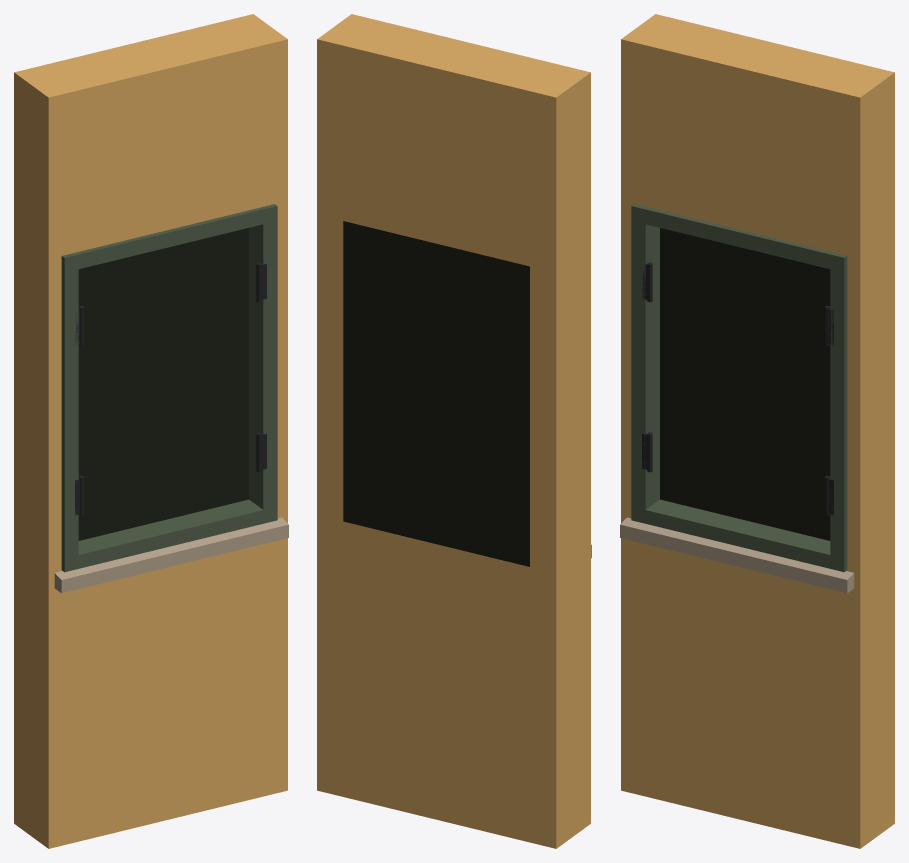
The model's file is SM_Wall_WindowBay_01.fbx.
3 renders of one model, left to right at view 1: azimuth 30°, elevation 25°; view 2: azimuth 150°, elevation 25°; view 3: azimuth 330°, elevation 25°, orthographic.
Visible parts, largest first — view 1: SM_Wall_WindowBay_01; view 2: SM_Wall_WindowBay_01; view 3: SM_Wall_WindowBay_01.
Boxes of the visible parts, bbox=[...] form: SM_Wall_WindowBay_01: bbox=[14, 14, 288, 848]; SM_Wall_WindowBay_01: bbox=[317, 14, 591, 848]; SM_Wall_WindowBay_01: bbox=[620, 14, 894, 848].
Size of the model in its own units: 1 by 3 by 0.3.
Materials: 1 (1 with a texture image).
